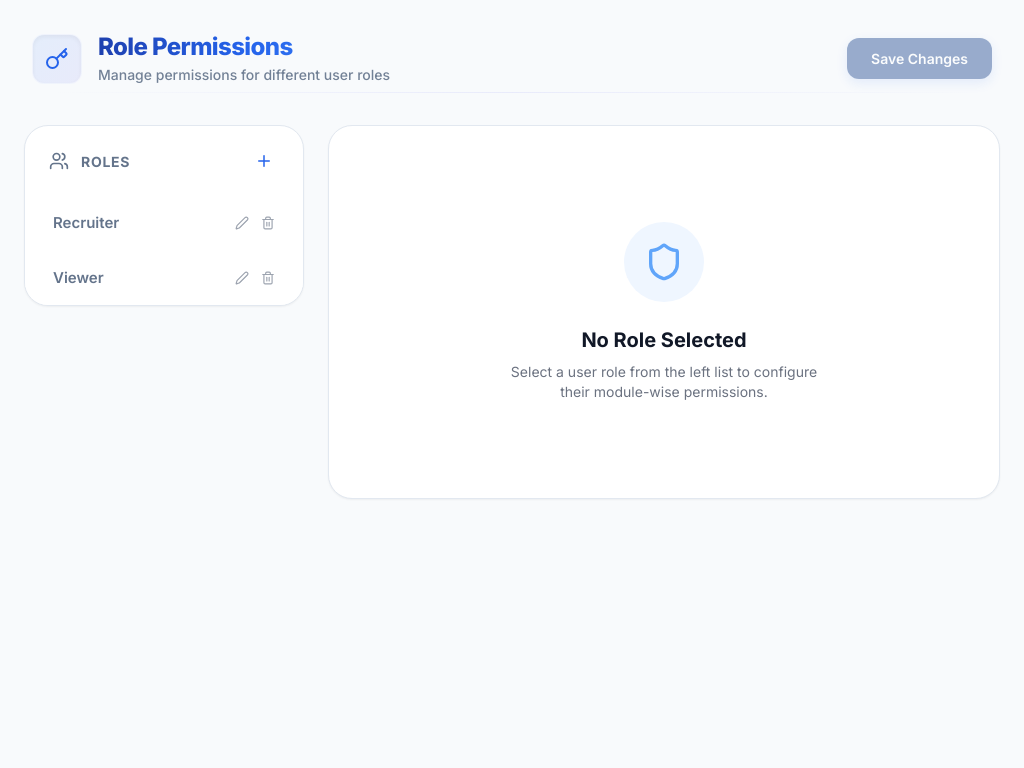
Scenario: shows active actions and saves only changed permissions, preserving hidden grants
Click the button "Recruiter". click: (86, 223)
box: [53, 212, 119, 234]
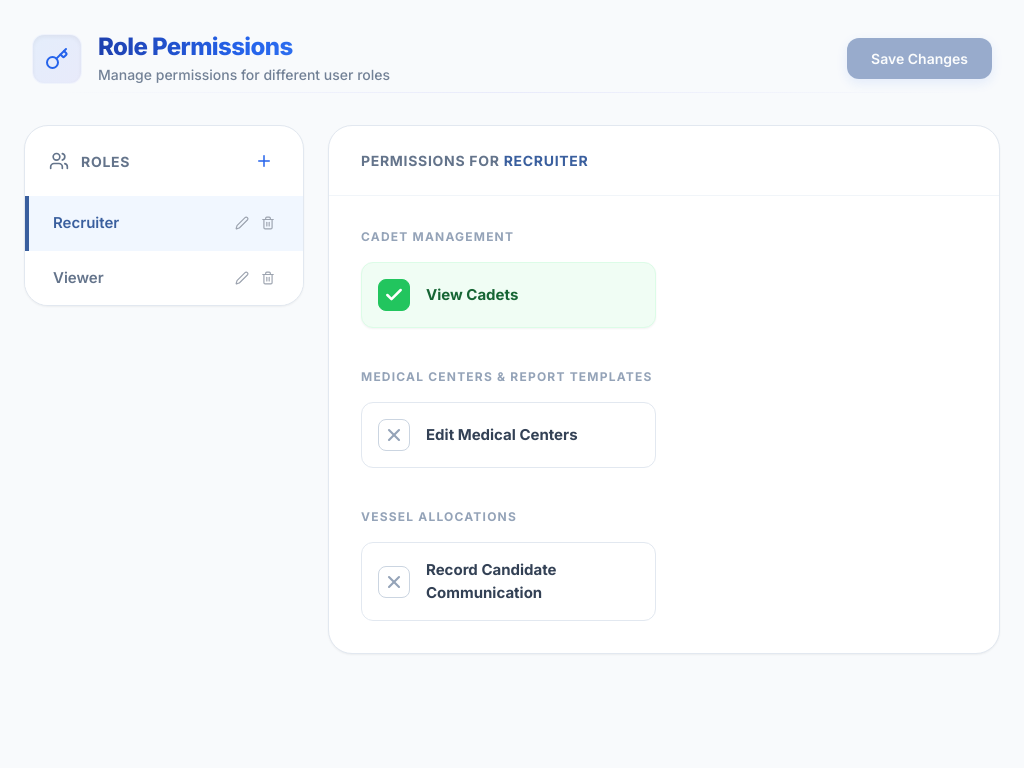
Check: the button "Save Changes" is disabled, box [847, 38, 992, 79]
Check: the button "View Cadets" is shown, box [361, 262, 656, 328]
Click the button "Record Candidate Communication". click: (508, 582)
box: [361, 542, 656, 621]
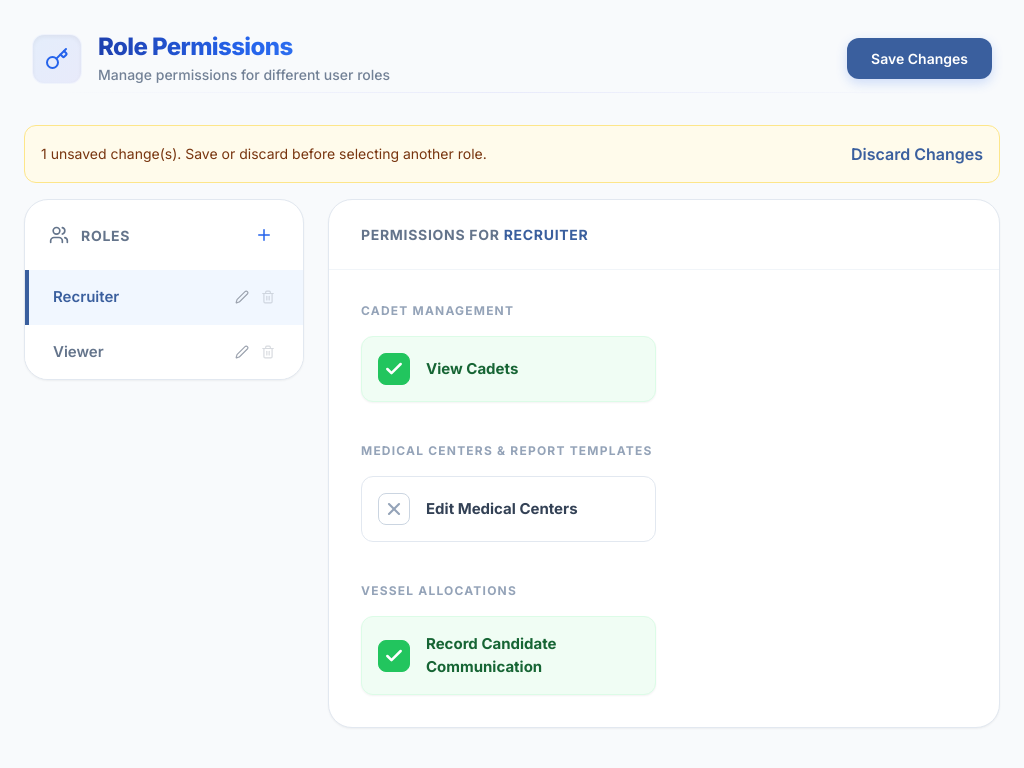
Check: the button "Viewer" is disabled, box [53, 340, 104, 363]
Click the button "Save Changes". click: (920, 58)
box: [847, 38, 992, 79]
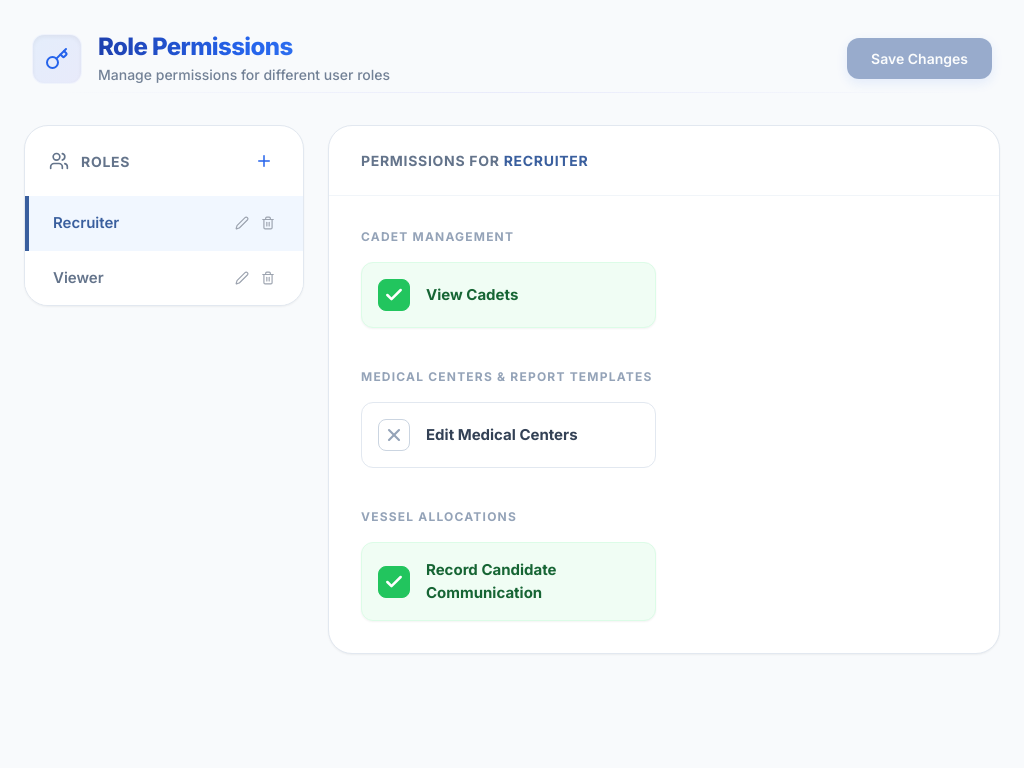
Check: the button "Save Changes" is disabled, box [847, 38, 992, 79]
